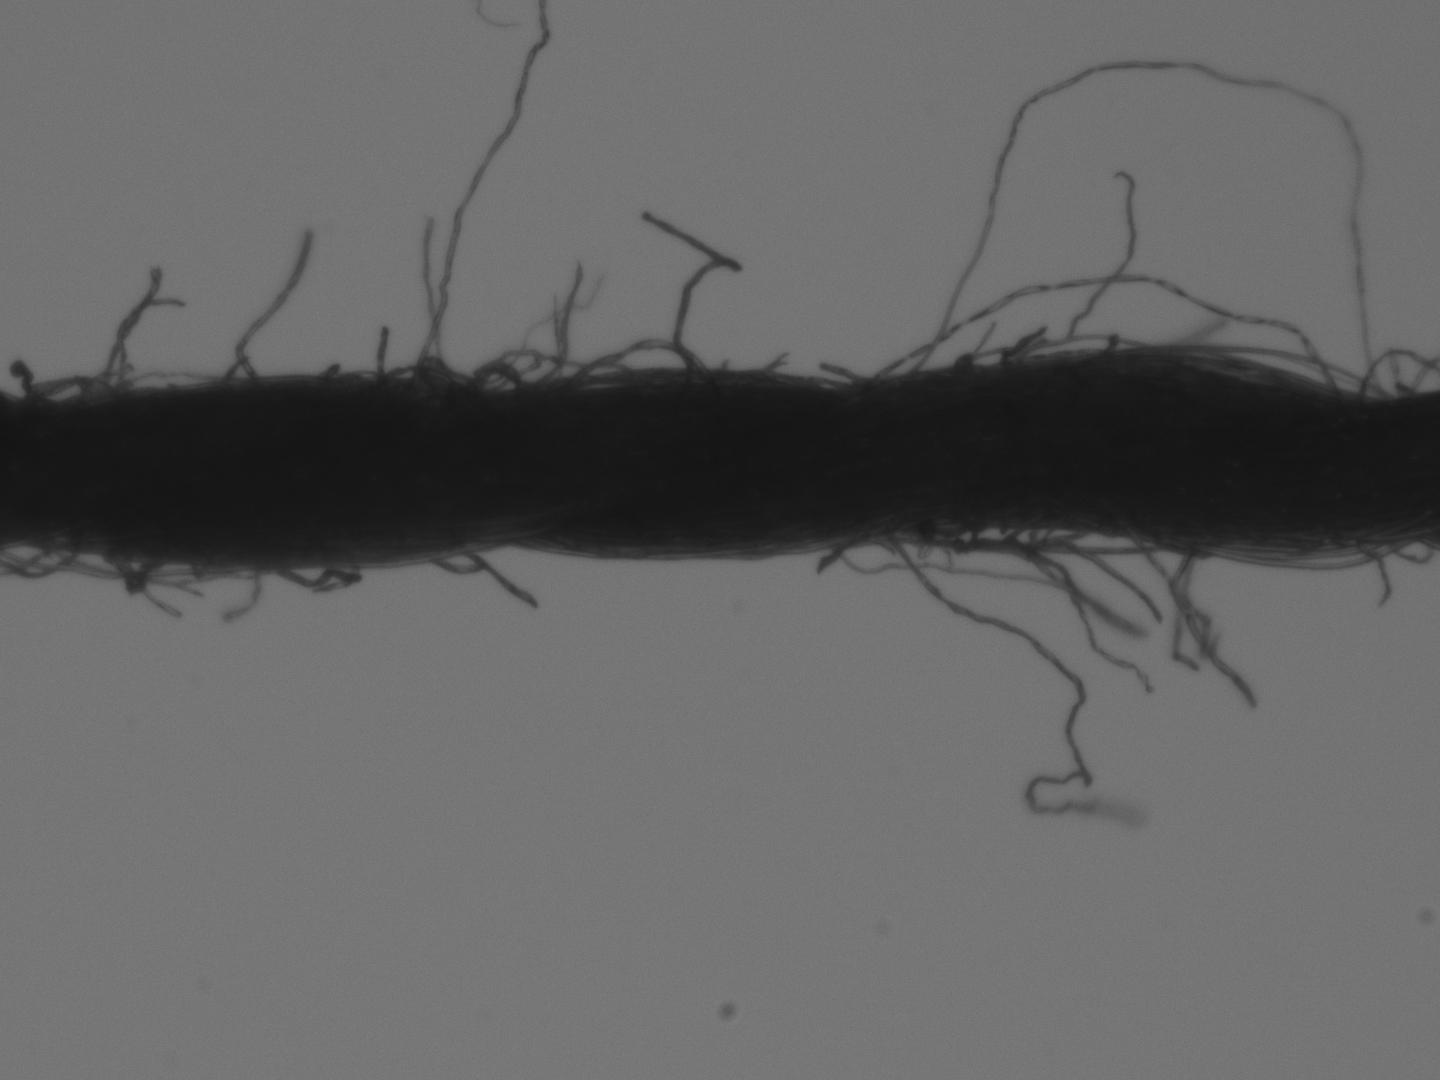loop_fiber: (913, 57, 1381, 402), (865, 275, 1335, 388), (1120, 341, 1379, 395), (1161, 534, 1412, 572), (56, 548, 243, 581), (577, 340, 710, 385), (910, 524, 1090, 556), (473, 355, 634, 386), (1016, 336, 1144, 360), (6, 542, 75, 582), (105, 552, 160, 593), (19, 374, 103, 400), (468, 361, 523, 391), (386, 361, 457, 383)
protruding_fiber: (883, 530, 1157, 826), (1034, 170, 1138, 361), (989, 523, 1145, 639), (638, 209, 739, 374), (234, 231, 313, 379), (1052, 531, 1161, 617), (102, 259, 159, 396), (460, 546, 539, 615), (374, 318, 392, 374)
